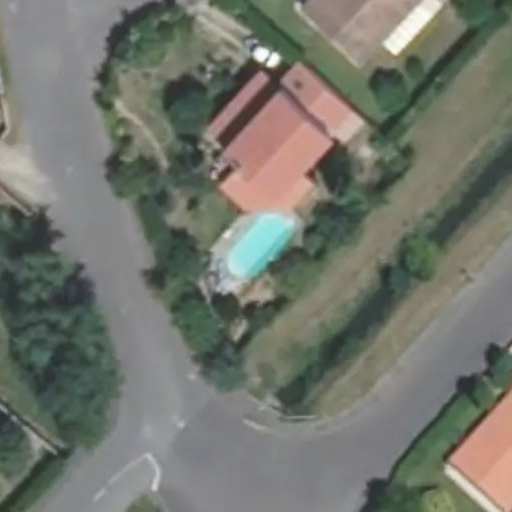pool: (219, 210, 295, 278)
